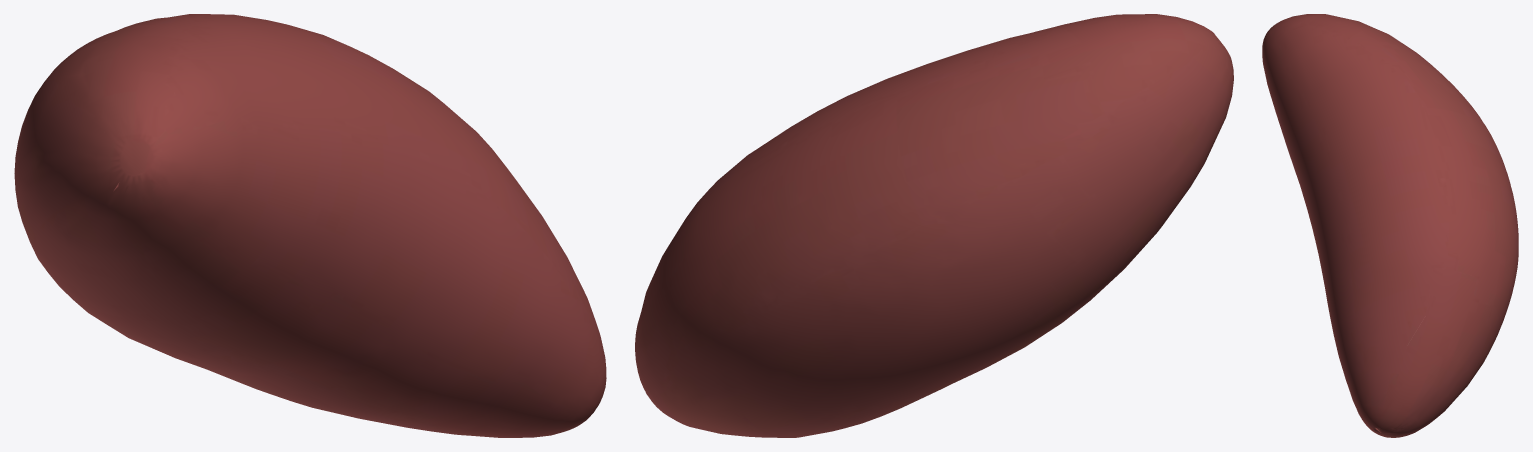
File: block.glb
The picture shows the model from 3 angles, left to right: view 1: azimuth 30°, elevation 25°; view 2: azimuth 150°, elevation 25°; view 3: azimuth 270°, elevation 25°; orthographic projection. The views are drawn at different scales.
Visible parts, largest first — view 1: tripo_node_39337adc-a1a2-40dc-8f5d-9c2f830a3264; view 2: tripo_node_39337adc-a1a2-40dc-8f5d-9c2f830a3264; view 3: tripo_node_39337adc-a1a2-40dc-8f5d-9c2f830a3264.
Boxes of the visible parts, x1,y1,x2,y2 form: tripo_node_39337adc-a1a2-40dc-8f5d-9c2f830a3264: [14, 14, 606, 437]; tripo_node_39337adc-a1a2-40dc-8f5d-9c2f830a3264: [635, 14, 1233, 437]; tripo_node_39337adc-a1a2-40dc-8f5d-9c2f830a3264: [1262, 14, 1518, 437].
Bounding box in the file's own units: 0.9995 × 0.8335 × 0.6655.
1 material, 1 textured.
